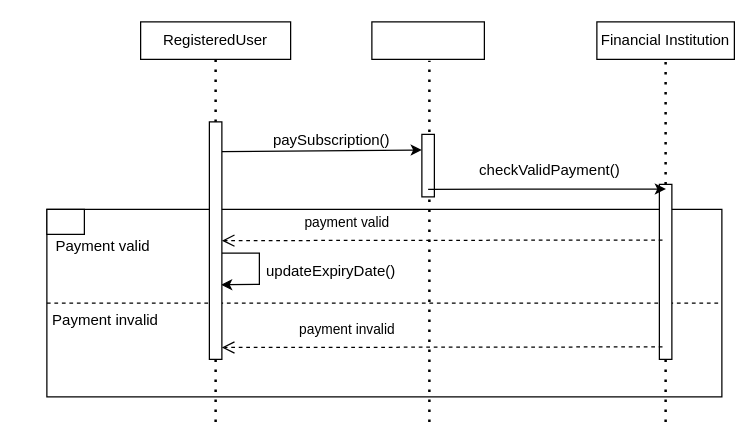
This 756x446 diagram has some shape labels left out. Each missing label, with the centre of its shape:
"Alt" goes at pixel 65 221.
"Payment" goes at pixel 427 40.
